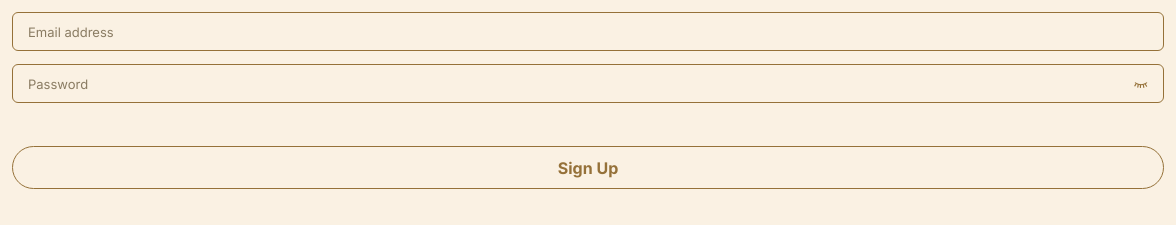
Test case: SignupForm › shows a field error for an already-registered email
Type "a@b.com" into the field labelled "Email".
click(588, 32); type("a@b.com")  # box [12,12,1164,51]
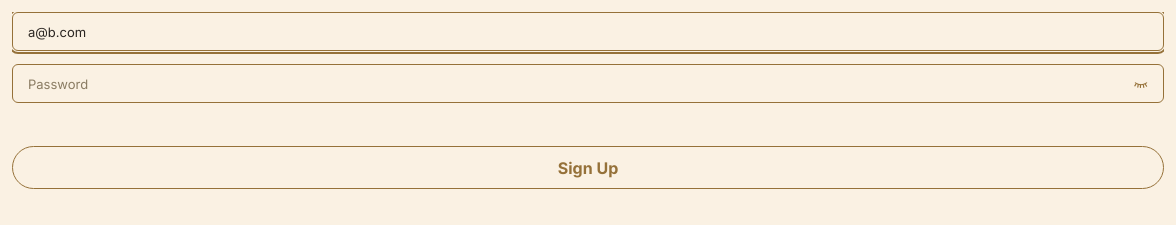
Type "s3cure-pw!" into the password field labelled "Password".
click(588, 84); type("s3cure-pw!")  # box [12,64,1164,103]
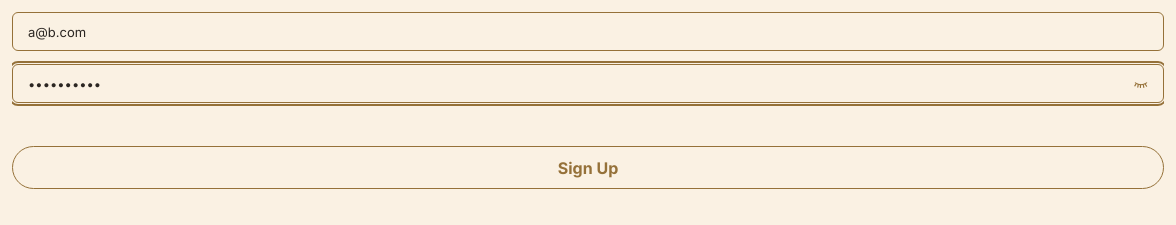
Click the button "Sign Up".
click(588, 168)  # box [12,146,1164,189]
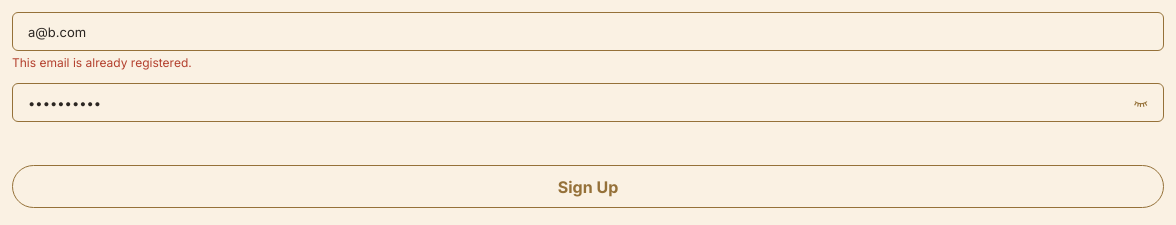
expect the text "This email is already registered." is shown: met, box [12,55,192,70]
